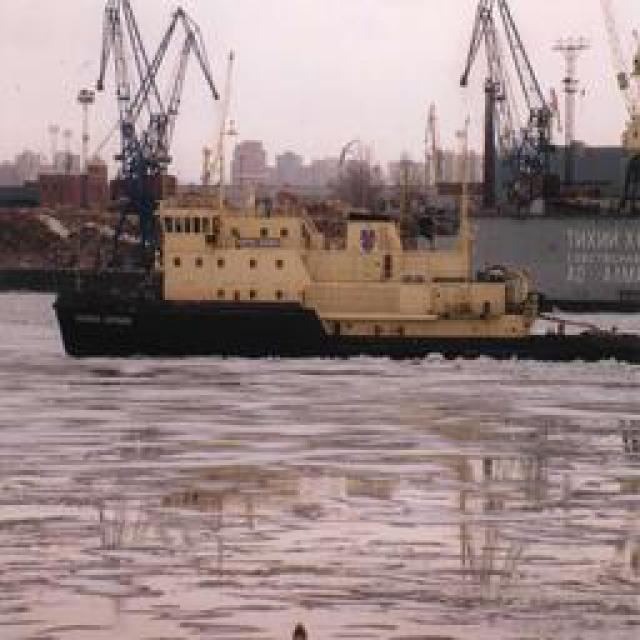Ship: (45, 50, 640, 364)
